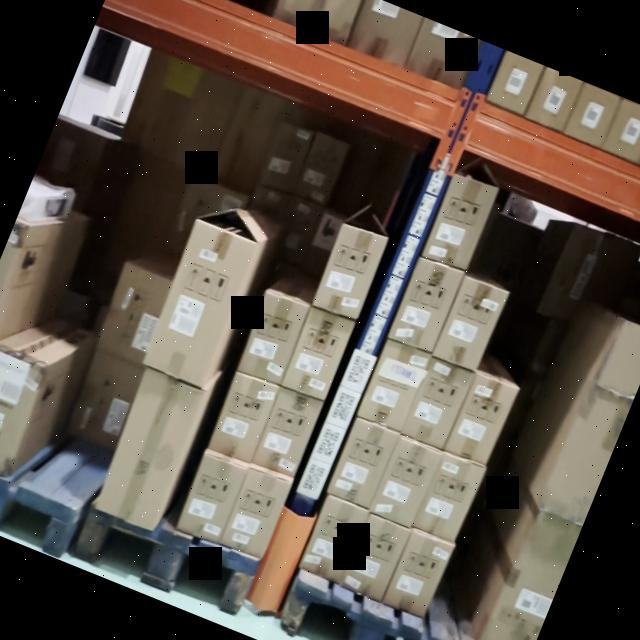box: (144, 220, 258, 386), (94, 370, 208, 531), (94, 266, 174, 363), (66, 350, 146, 447), (388, 256, 464, 354), (282, 306, 354, 402), (312, 227, 386, 319), (434, 276, 506, 369), (424, 177, 496, 269), (400, 357, 472, 448), (236, 293, 308, 383), (206, 374, 278, 464), (176, 454, 248, 544), (412, 452, 484, 542), (252, 386, 322, 478), (446, 372, 515, 464), (358, 341, 428, 431), (220, 470, 290, 557), (383, 530, 451, 618), (328, 420, 397, 506), (370, 438, 438, 524), (342, 514, 409, 599), (301, 496, 366, 580), (0, 351, 43, 471), (294, 135, 348, 204), (262, 126, 312, 190)
